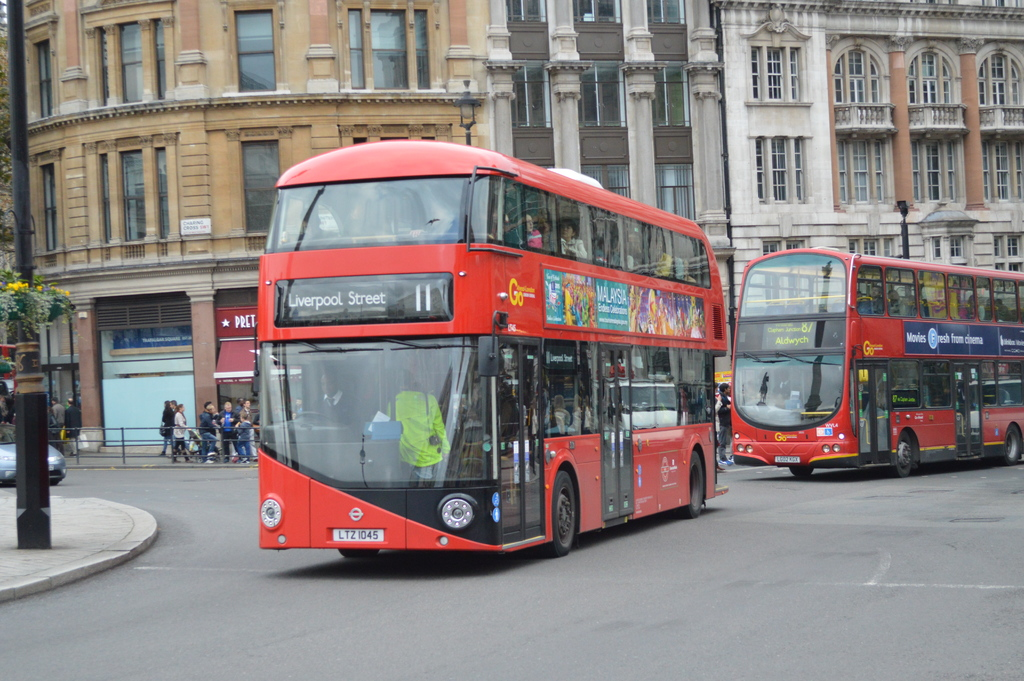Bus: (252, 135, 734, 560), (723, 247, 1023, 481)
